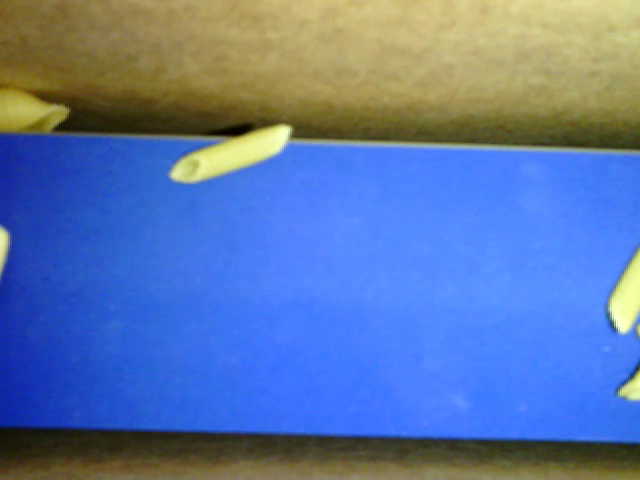penne: (167, 119, 298, 187), (597, 249, 639, 333)
shell: (2, 84, 79, 134)
